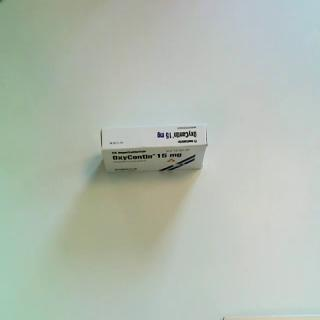oxycontin15mg: (100, 123, 210, 175)
